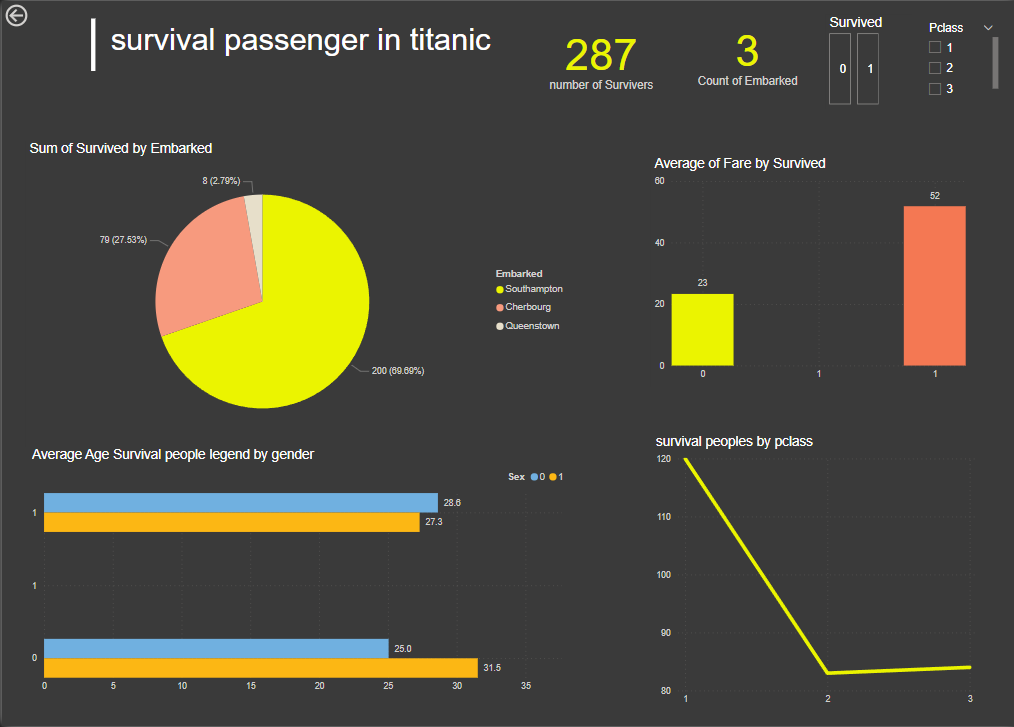

What the dashboard file says about the page in this screenshot:
{"tool":"powerbi","page":{"name":"Page 1","canvas":[1400,1000],"ordinal":0},"visuals":[{"type":"textbox","box":[144.8,24.1,555.2,72.4],"z":0},{"type":"shape","box":[50,24.1,151.7,72.4],"z":1000},{"type":"lineStackedColumnComboChart","fields":{"Category":["train.Survived"],"Y":["Avg(train.Fare)"]},"box":[894.8,213.8,439.7,317.2],"z":2000},{"type":"card","fields":{"Values":["Sum(train.Survived)"]},"box":[731,13.8,191.4,129.3],"z":3000},{"type":"card","fields":{"Values":["Count(train.Embarked)"]},"box":[933.3,8.6,191.4,129.3],"z":4000},{"type":"actionButton","box":[0,0,100,40],"z":5000},{"type":"pieChart","fields":{"Category":["train.Embarked"],"Y":["Sum(train.Survived)"]},"box":[32.8,193.1,755.2,422.4],"z":6000},{"type":"lineChart","title":"survival peoples by pclass","fields":{"Category":["train.Pclass"],"Y":["Sum(train.Survived)"]},"box":[896.6,596.6,453.4,382.8],"z":7000},{"type":"clusteredBarChart","title":"Average Age Survival people legend by gender","fields":{"Category":["train.Survived"],"Y":["Avg(train.Age)"],"Series":["train.Sex"]},"box":[36.2,615.5,748.3,344.8],"z":8000},{"type":"advancedSlicerVisual","fields":{"Values":["train.Survived"]},"box":[1135.6,19,119,129.3],"z":9000},{"type":"slicer","fields":{"Values":["train.Pclass"]},"box":[1265.5,24.1,113.8,113.8],"z":10000}]}

Visuals, with their boxes on the page's 1400x1000 design canvas (x1, y1, x2, y2). These are canvas units, not pixel positions in the 1014x727 screenshot, which may show the page scaled, cropped or inside an application window:
textbox: (145, 24, 700, 96)
shape: (50, 24, 202, 96)
lineStackedColumnComboChart - train.Survived x Avg(train.Fare): (895, 214, 1334, 531)
card - Sum(train.Survived): (731, 14, 922, 143)
card - Count(train.Embarked): (933, 9, 1125, 138)
actionButton: (0, 0, 100, 40)
pieChart - train.Embarked x Sum(train.Survived): (33, 193, 788, 616)
"survival peoples by pclass" lineChart: (897, 597, 1350, 979)
"Average Age Survival people legend by gender" clusteredBarChart: (36, 616, 784, 960)
advancedSlicerVisual - train.Survived: (1136, 19, 1255, 148)
slicer - train.Pclass: (1266, 24, 1379, 138)
